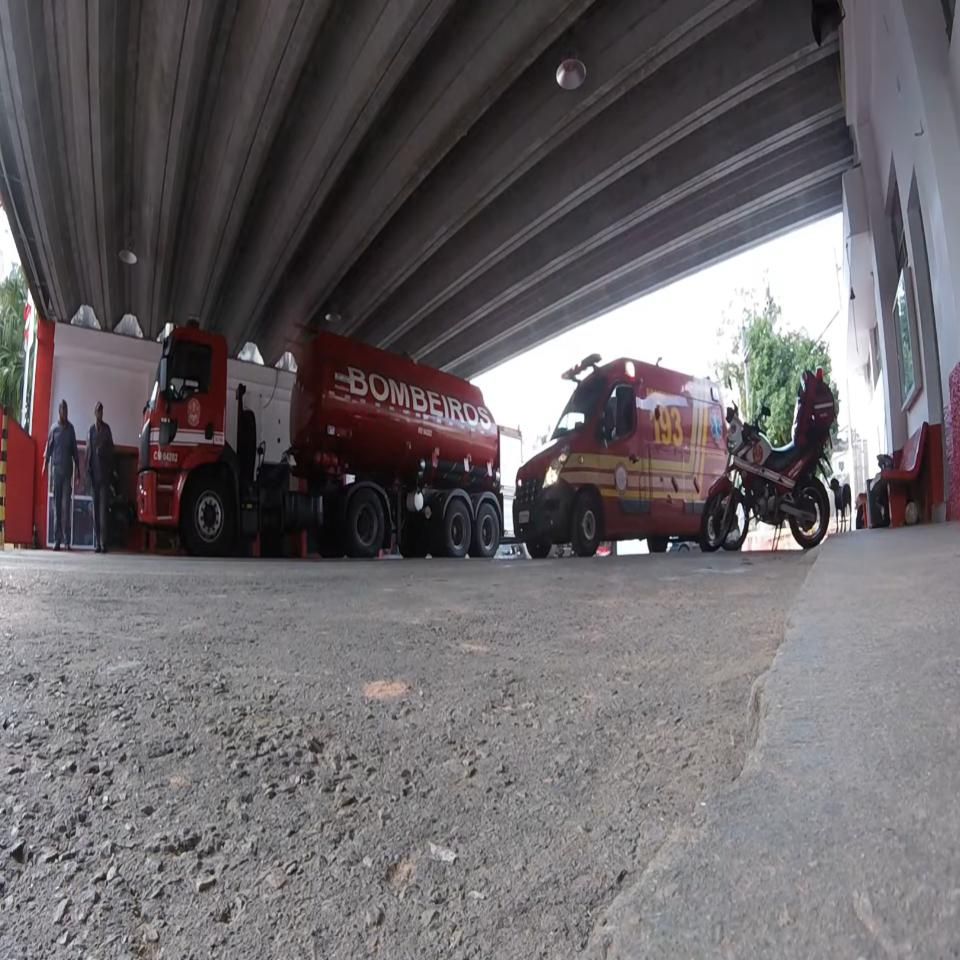viatura: (136, 323, 506, 566)
